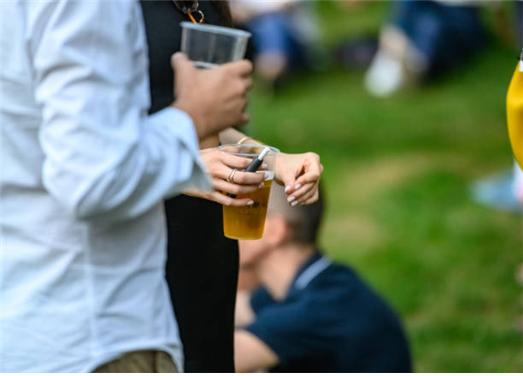alcohol: (219, 147, 278, 239), (179, 23, 251, 78)
